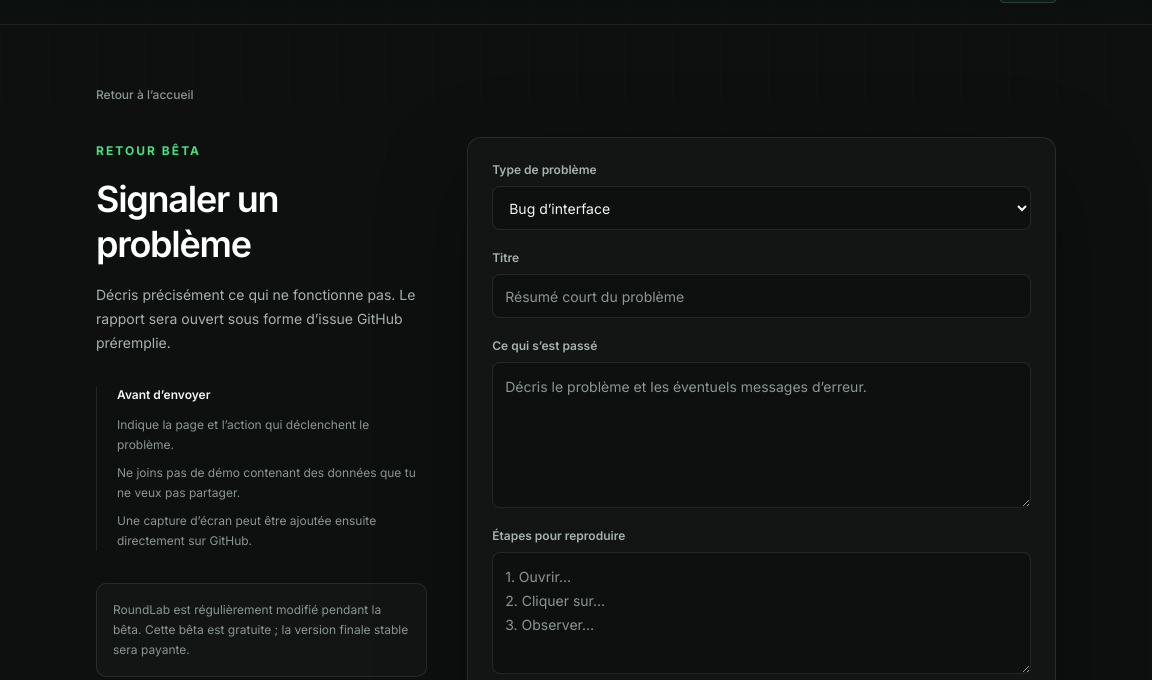
Scenario: FeedbackPage › builds a structured bug report that can be copied
Type "La map disparaît" into the field labelled "Titre" at (762, 296), box 492,274 -> 1031,318
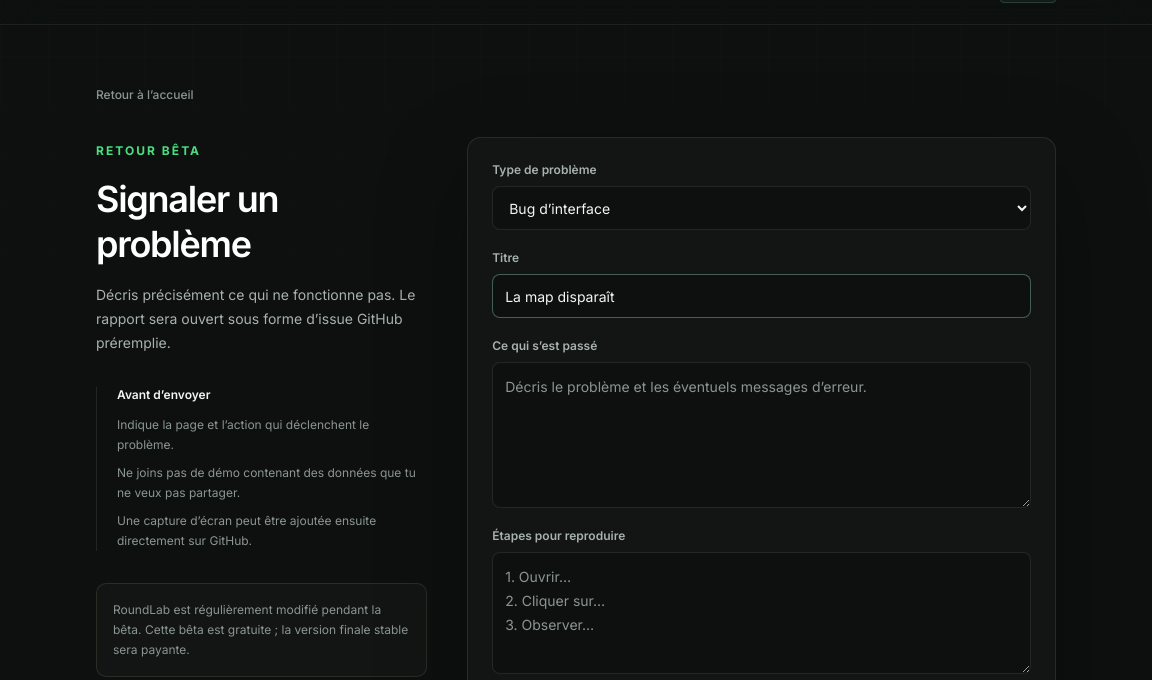
Type "Retour depuis le rapport sans map." into the text box labelled "Ce qui s’est passé" at (762, 435), box 492,362 -> 1031,508
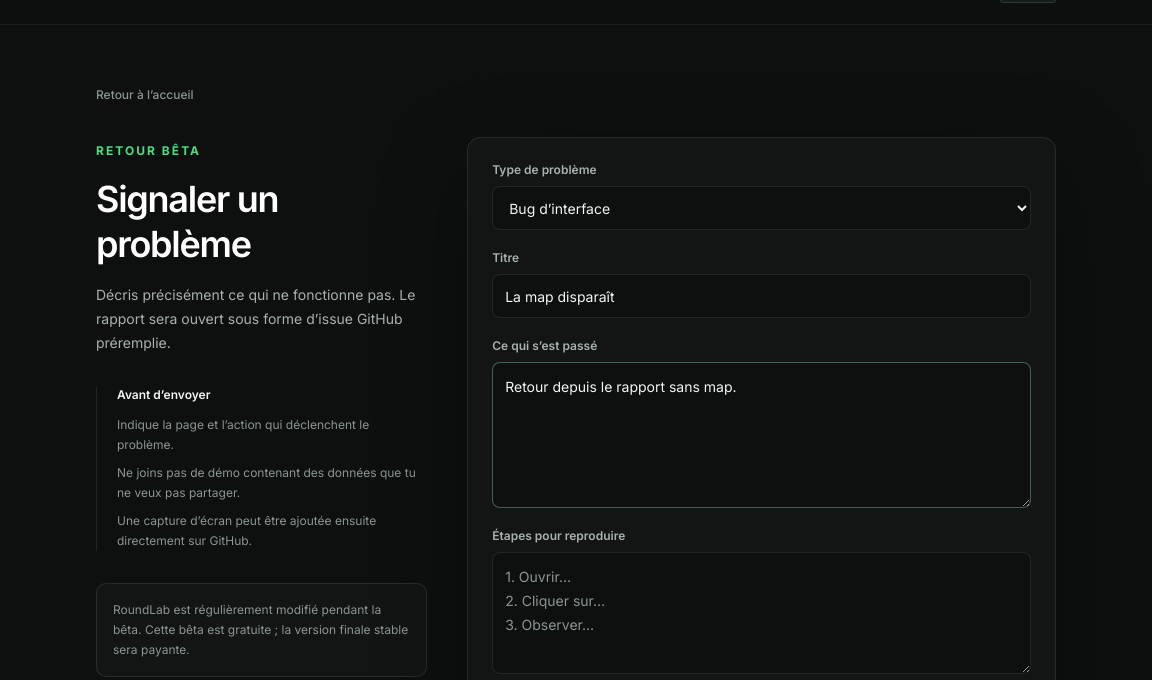
Type "Ouvrir le rapport puis revenir." into the text box labelled "Étapes pour reproduire" at (762, 613), box 492,552 -> 1031,674
(page scrolled)
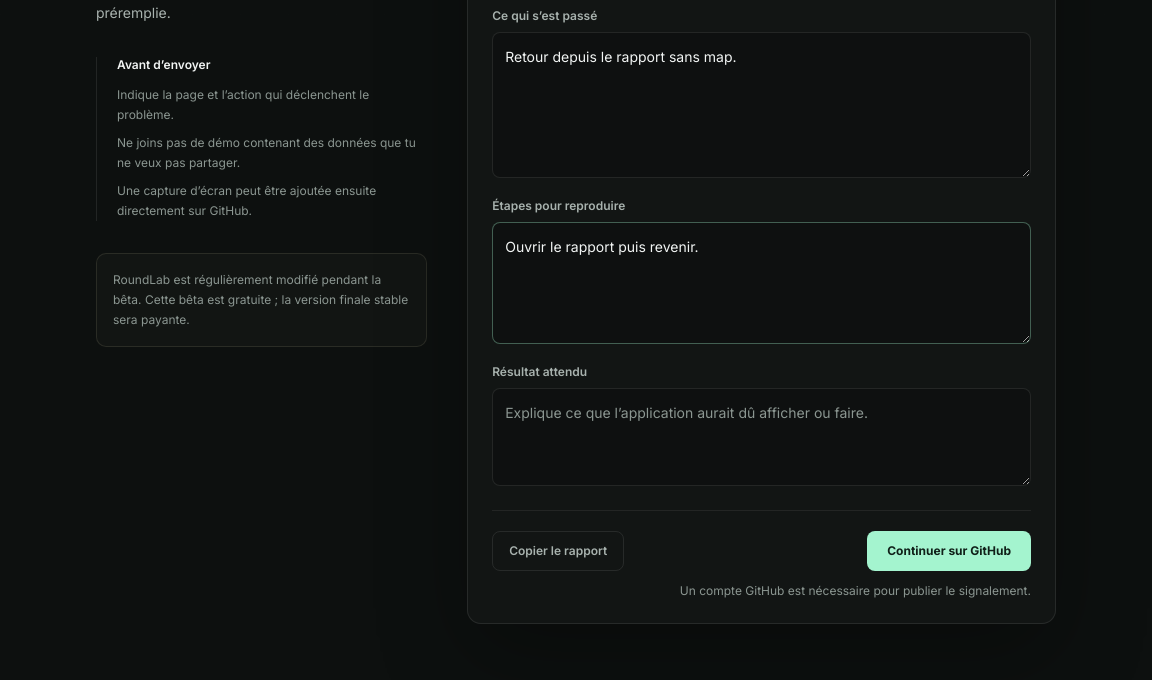
Click the button "Copier le rapport" at (558, 551), box 492,531 -> 624,571
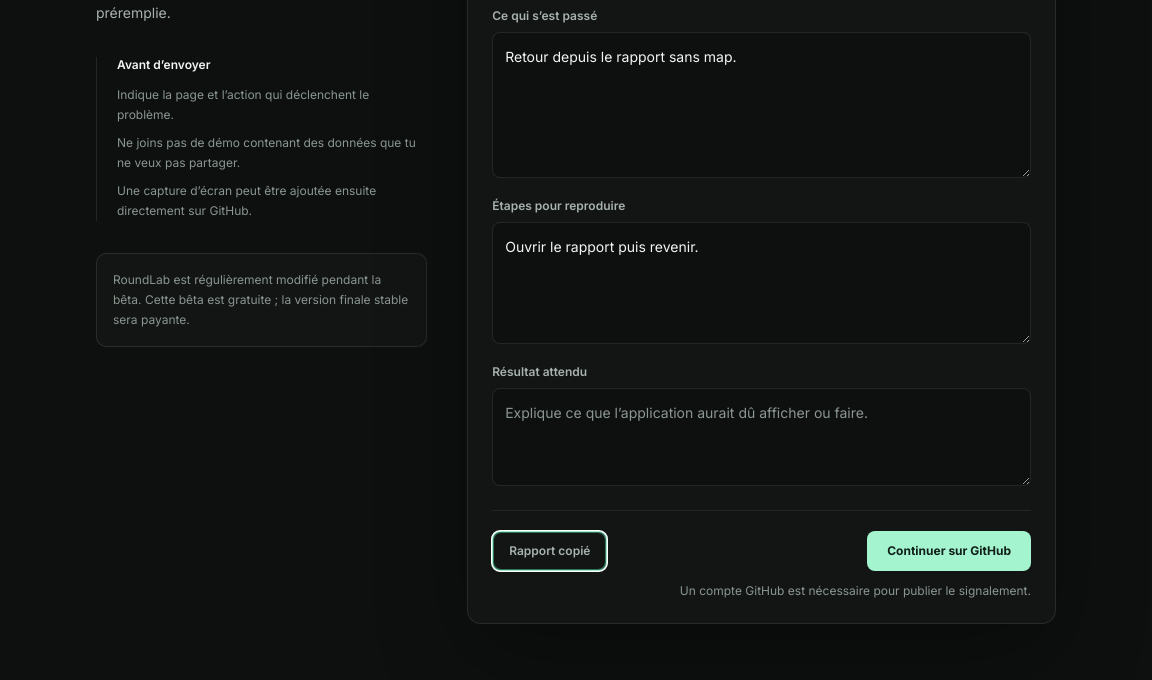
Expected: the button "Continuer sur GitHub" is shown, 867,531 -> 1031,571
Expected: the button "Rapport copié" is shown, 492,531 -> 607,571
